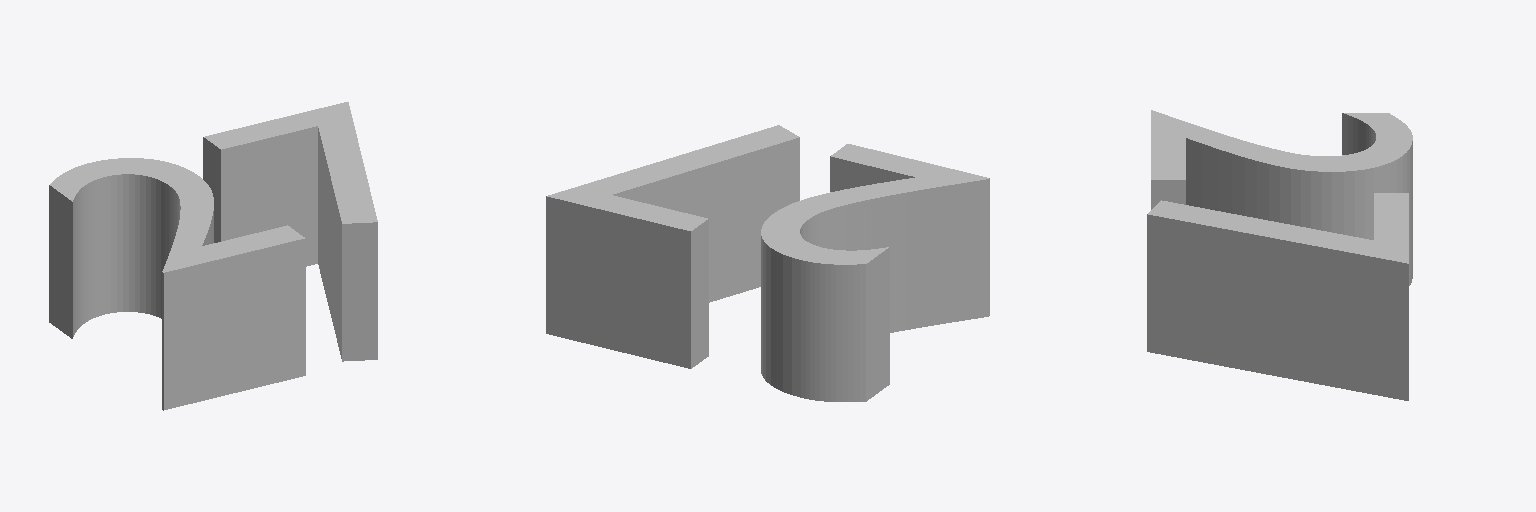
File: date_27.obj
The picture shows the model from 3 angles: view 1: azimuth 30°, elevation 25°; view 2: azimuth 150°, elevation 25°; view 3: azimuth 270°, elevation 25°; orthographic projection.
Parts seen in each view (by area): view 1: Text; view 2: Text; view 3: Text.
Part boxes in pixels (left/top/right/bottom): Text: left=49, top=102, right=377, bottom=410; Text: left=546, top=125, right=989, bottom=401; Text: left=1147, top=110, right=1412, bottom=400.
Bounding box in the file's own units: 0.956 × 0.4 × 0.7.